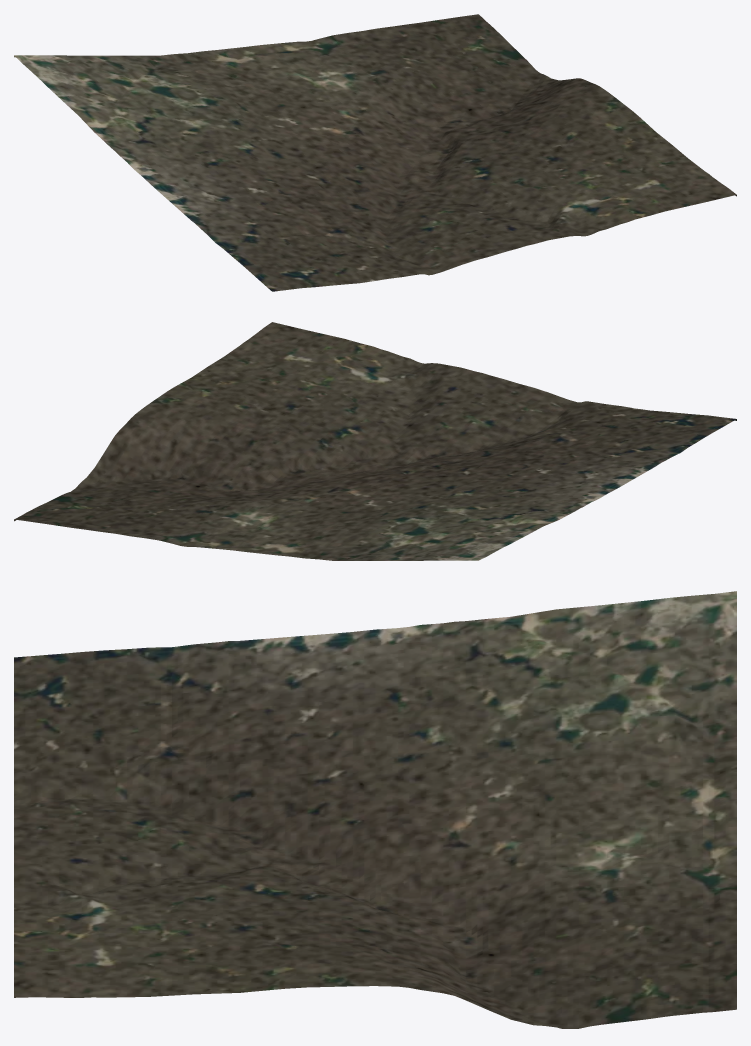
The picture shows the model from 3 angles, top to bottom: view 1: azimuth 30°, elevation 25°; view 2: azimuth 150°, elevation 25°; view 3: azimuth 270°, elevation 25°; orthographic projection. The views are drawn at different scales.
Bounding box in the file's own units: 250 × 45.27 × 241.
Materials: 1 (1 with a texture image).
